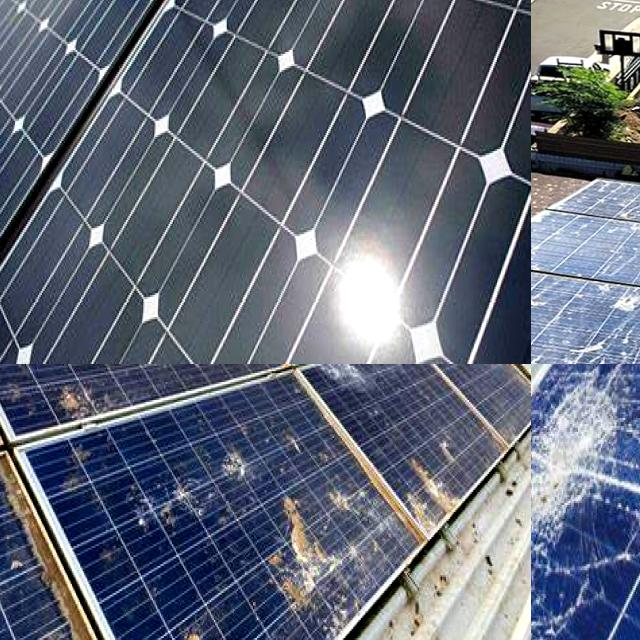bird: (120, 451, 200, 553), (272, 491, 316, 617), (406, 431, 450, 532), (326, 466, 396, 521), (48, 364, 108, 421), (307, 364, 387, 405), (316, 364, 396, 400), (0, 571, 38, 640), (583, 287, 640, 327), (117, 364, 181, 395), (223, 431, 254, 484), (551, 338, 602, 364), (531, 268, 567, 303), (0, 364, 26, 412), (1, 364, 62, 384), (0, 364, 31, 401), (531, 311, 574, 337), (180, 613, 221, 640), (235, 364, 280, 385), (104, 364, 144, 386), (162, 364, 196, 389), (531, 350, 580, 364)
crack: (0, 0, 531, 364)
hotspot: (531, 364, 640, 601)
